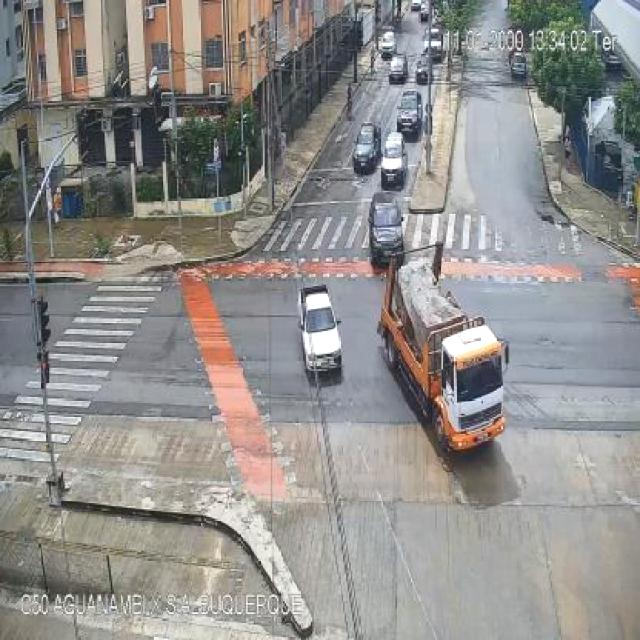Car: (293, 286, 346, 383), (380, 128, 409, 194), (352, 120, 381, 171), (396, 90, 422, 141), (388, 50, 410, 86)
Truck: (378, 238, 512, 459)
Van: (368, 192, 407, 264)
